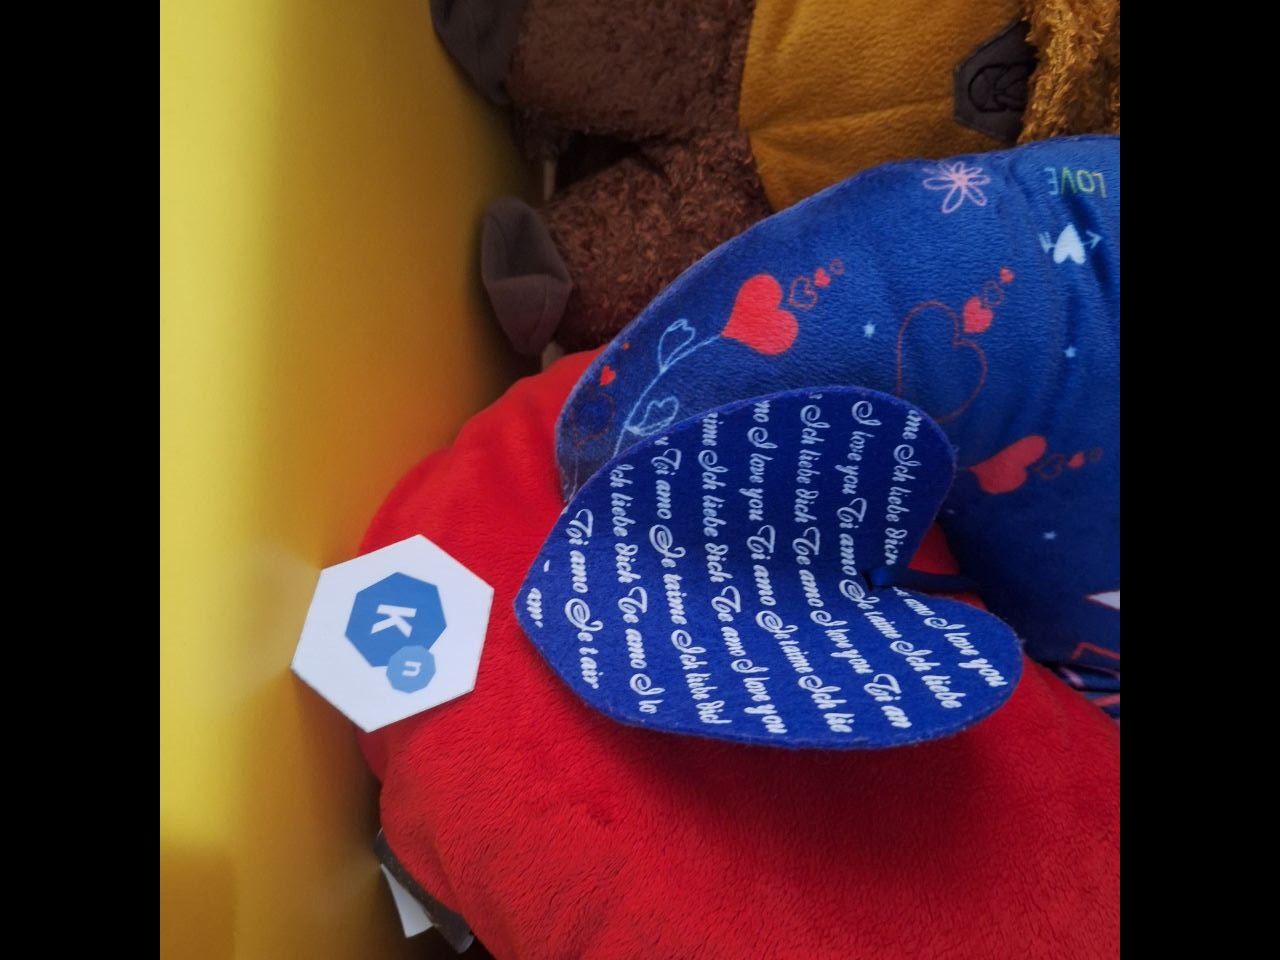knative: (339, 571, 450, 695)
